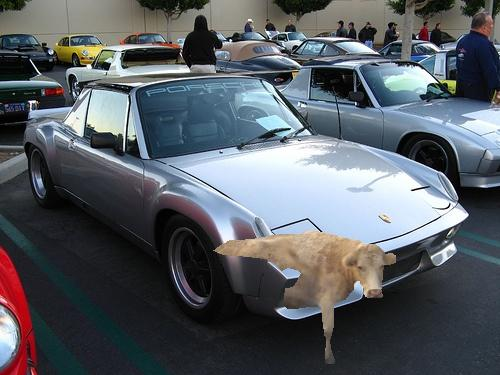tampered: (214, 231, 396, 364)
